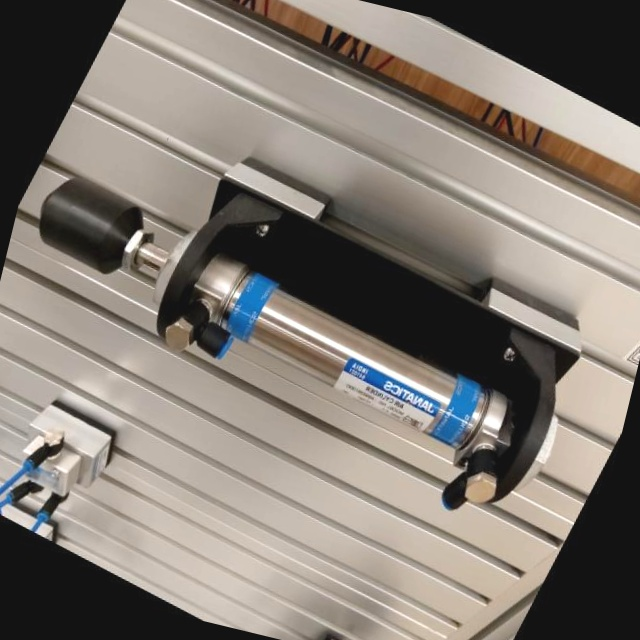double acting pneumatic cylinder: (0, 47, 640, 560)
